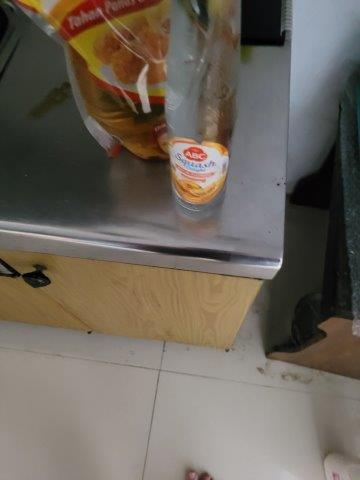botolkaca: (166, 1, 237, 218)
